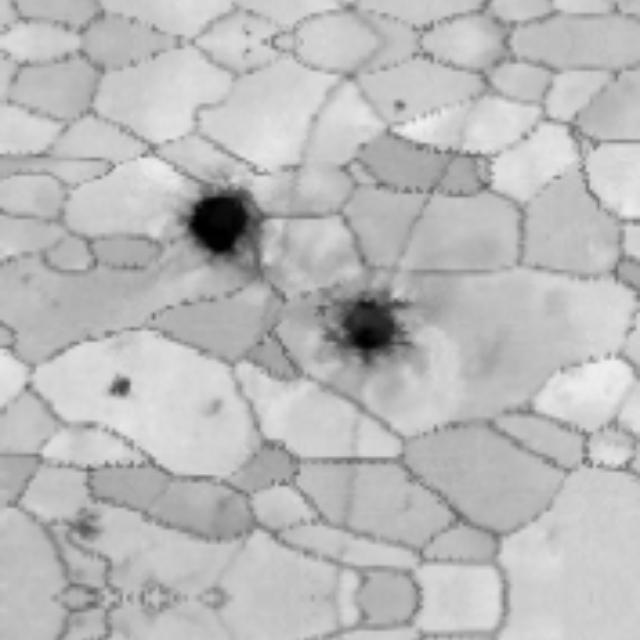good_void: (323, 290, 429, 371), (183, 191, 258, 272), (42, 504, 105, 552), (89, 370, 136, 409), (196, 393, 226, 425), (390, 93, 416, 117)
